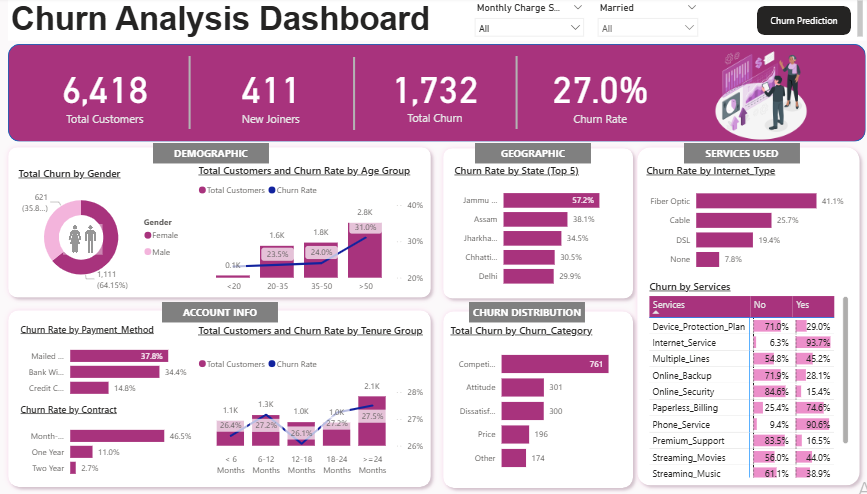

Layout of this report page (visuals, bound fields, positions):
{"tool":"powerbi","page":{"name":"Summary","canvas":[1280,730],"ordinal":0},"visuals":[{"type":"textbox","box":[11.7,0,1257.7,64.5],"z":0},{"type":"shape","box":[3,211.6,637.6,238.4],"z":1000},{"type":"donutChart","fields":{"Category":["prod_Churn.Gender"],"Y":["tbi_measure.Total Churn"]},"box":[22.3,247.3,254.8,189.2],"z":2000},{"type":"image","box":[92.4,332.2,58.1,44.7],"z":3000},{"type":"lineStackedColumnComboChart","fields":{"Category":["mapping_AgeGrp.Age Group"],"Y":["tbi_measure.Total Customers"],"Y2":["tbi_measure.Churn Rate"]},"box":[286,242.8,339.7,198.1],"z":4000},{"type":"shape","box":[640.6,213,296.5,238.4],"z":5000},{"type":"clusteredBarChart","title":"Churn Rate by State (Top 5)","fields":{"Category":["prod_Churn.State"],"Y":["tbi_measure.Churn Rate"]},"box":[661.5,242.8,256.2,193.7],"z":6000},{"type":"shape","box":[925.2,211.6,344.1,514],"z":7000},{"type":"clusteredBarChart","fields":{"Category":["prod_Churn.Internet_Type"],"Y":["tbi_measure.Churn Rate"]},"box":[943,242.8,305.4,169.8],"z":8000},{"type":"shape","box":[3,449.9,637.6,277.1],"z":9000},{"type":"clusteredBarChart","fields":{"Category":["prod_Churn.Payment_Method"],"Y":["tbi_measure.Churn Rate"]},"box":[25.3,478.2,260.7,119.2],"z":10000},{"type":"clusteredBarChart","fields":{"Category":["prod_Churn.Contract"],"Y":["tbi_measure.Churn Rate"]},"box":[25.3,594.4,260.7,119.2],"z":11000},{"type":"lineStackedColumnComboChart","fields":{"Category":["mapping_TenureGrp.Tenure Group "],"Y":["tbi_measure.Total Customers"],"Y2":["tbi_measure.Churn Rate"]},"box":[286,478.2,339.7,230.9],"z":12000},{"type":"shape","box":[640.6,451.4,296.5,277.1],"z":13000},{"type":"clusteredBarChart","fields":{"Category":["prod_Churn.Churn_Category"],"Y":["tbi_measure.Total Churn"]},"box":[655.5,478.2,266.7,230.9],"z":14000},{"type":"shape","box":[11.9,68.5,1257.4,143],"z":15000},{"type":"pivotTable","title":"Churn by Services","fields":{"Rows":["Prod_Services.Services"],"Columns":["Prod_Services.Status"],"Values":["Sum(Prod_Services.Churn Status)"]},"box":[947.5,412.7,302.4,296.5],"z":16000},{"type":"card","fields":{"Values":["tbi_measure.Churn Rate"]},"box":[774.7,79,211.6,120.7],"z":17000},{"type":"card","fields":{"Values":["tbi_measure.New Joiners"]},"box":[286.5,79,222,120.7],"z":18000},{"type":"card","fields":{"Values":["tbi_measure.Total Churn"]},"box":[524.8,79.2,225.7,120.2],"z":19000},{"type":"card","fields":{"Values":["tbi_measure.Total Customers"]},"box":[38.7,79,230.9,120.7],"z":20000},{"type":"slicer","fields":{"Values":["prod_Churn.Monthly Charge Status"]},"box":[686,2.9,180.3,61.6],"z":21000},{"type":"slicer","fields":{"Values":["prod_Churn.Married"]},"box":[866.3,2.9,167.1,61.6],"z":22000},{"type":"shape","box":[269.7,86.4,16.4,107.3],"z":23000},{"type":"shape","box":[750.9,86.4,13.4,107.3],"z":24000},{"type":"shape","box":[511,87.9,14.9,107.3],"z":25000},{"type":"image","box":[983.6,70.4,263.9,140.7],"z":26000},{"type":"textbox","box":[695.7,214.5,170,30],"z":27000},{"type":"textbox","box":[686.8,446.9,170,30],"z":28000},{"type":"textbox","box":[236.9,446.9,170,30],"z":29000},{"type":"textbox","box":[225,214.5,170,30],"z":30000},{"type":"textbox","box":[1002.6,214.5,170,30],"z":31000},{"type":"shape","box":[1109.7,13.2,137.8,42.5],"z":32000}]}

Visuals, with their boxes in screenshot pixels (x1, y1, x2, y2), scaled from the page's 1280x730 canvas onto the 867x494 screenshot:
textbox: crop(8, 0, 860, 44)
shape: crop(2, 143, 434, 305)
donutChart - prod_Churn.Gender x tbi_measure.Total Churn: crop(15, 167, 188, 295)
image: crop(63, 225, 102, 255)
lineStackedColumnComboChart - mapping_AgeGrp.Age Group x tbi_measure.Total Customers: crop(194, 164, 424, 298)
shape: crop(434, 144, 635, 305)
"Churn Rate by State (Top 5)" clusteredBarChart: crop(448, 164, 622, 295)
shape: crop(627, 143, 860, 491)
clusteredBarChart - prod_Churn.Internet_Type x tbi_measure.Churn Rate: crop(639, 164, 846, 279)
shape: crop(2, 304, 434, 492)
clusteredBarChart - prod_Churn.Payment_Method x tbi_measure.Churn Rate: crop(17, 324, 194, 404)
clusteredBarChart - prod_Churn.Contract x tbi_measure.Churn Rate: crop(17, 402, 194, 483)
lineStackedColumnComboChart - mapping_TenureGrp.Tenure Group  x tbi_measure.Total Customers: crop(194, 324, 424, 480)
shape: crop(434, 305, 635, 493)
clusteredBarChart - prod_Churn.Churn_Category x tbi_measure.Total Churn: crop(444, 324, 625, 480)
shape: crop(8, 46, 860, 143)
"Churn by Services" pivotTable: crop(642, 279, 847, 480)
card - tbi_measure.Churn Rate: crop(525, 53, 668, 135)
card - tbi_measure.New Joiners: crop(194, 53, 344, 135)
card - tbi_measure.Total Churn: crop(355, 54, 508, 135)
card - tbi_measure.Total Customers: crop(26, 53, 183, 135)
slicer - prod_Churn.Monthly Charge Status: crop(465, 2, 587, 44)
slicer - prod_Churn.Married: crop(587, 2, 700, 44)
shape: crop(183, 58, 194, 131)
shape: crop(509, 58, 518, 131)
shape: crop(346, 59, 356, 132)
image: crop(666, 48, 845, 143)
textbox: crop(471, 145, 586, 165)
textbox: crop(465, 302, 580, 323)
textbox: crop(160, 302, 276, 323)
textbox: crop(152, 145, 268, 165)
textbox: crop(679, 145, 794, 165)
shape: crop(752, 9, 845, 38)
